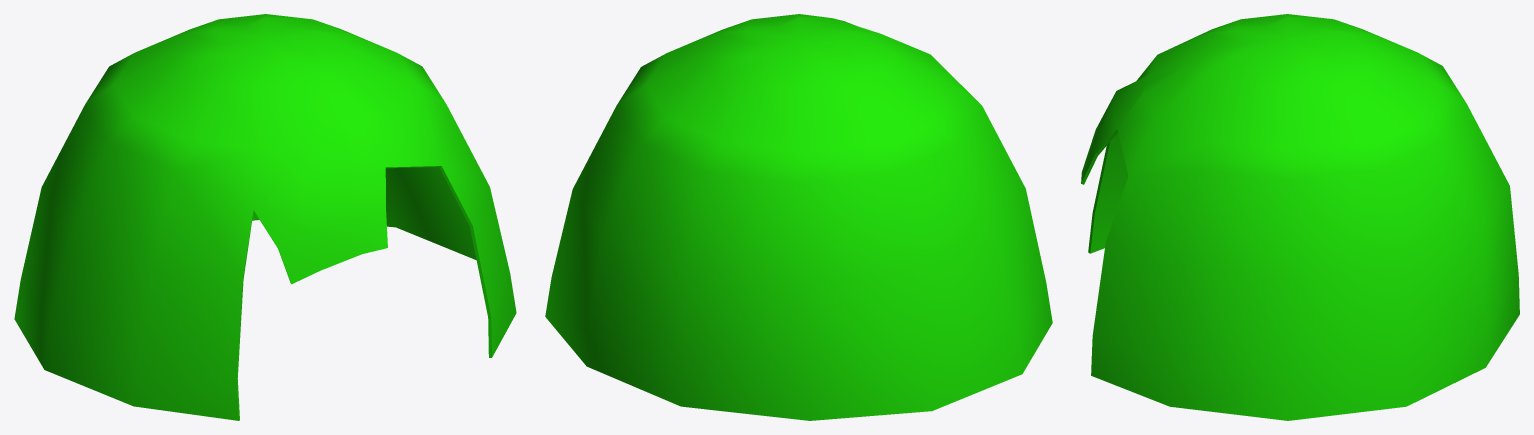
File: bobcut.fbx
3 views of the same model, side by side, from view 1: azimuth 30°, elevation 25°; view 2: azimuth 150°, elevation 25°; view 3: azimuth 270°, elevation 25° (orthographic).
Parts seen in each view (by area): view 1: pCylinder1; view 2: pCylinder1; view 3: pCylinder1.
Part boxes in pixels (box(x1,y1,x2,y2)): pCylinder1: box(14, 14, 516, 420); pCylinder1: box(545, 14, 1052, 420); pCylinder1: box(1081, 14, 1519, 420).
Size of the model in its own units: 718 by 431 by 622.
